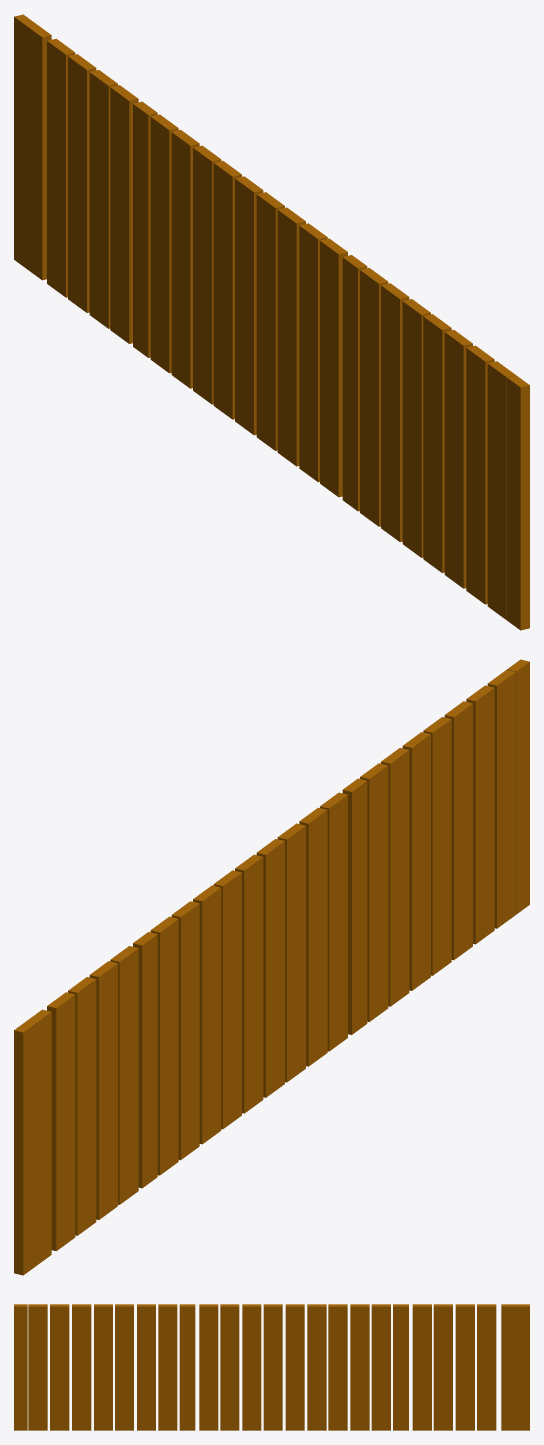
The model's file is enclosingfence.fbx.
3 views of the same model, one above another, from view 1: azimuth 30°, elevation 25°; view 2: azimuth 150°, elevation 25°; view 3: azimuth 270°, elevation 25° (orthographic). The views are drawn at different scales.
Parts seen in each view (by area): view 1: polySurface103; view 2: polySurface103; view 3: polySurface103.
Boxes of the visible parts, x1,y1,x2,y2 form: polySurface103: (14, 14, 529, 630); polySurface103: (14, 659, 529, 1275); polySurface103: (14, 1304, 529, 1430).
Size of the model in its own units: 0.2859 by 7.11 by 26.85.
